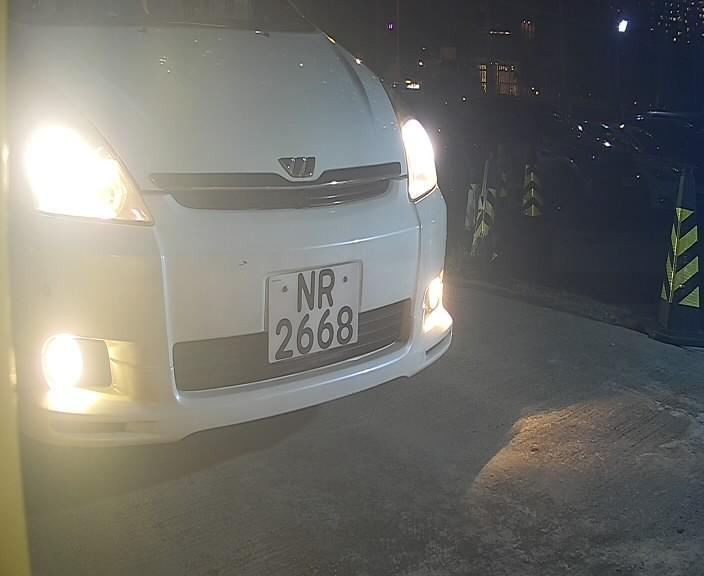privatecar: (19, 8, 447, 502)
